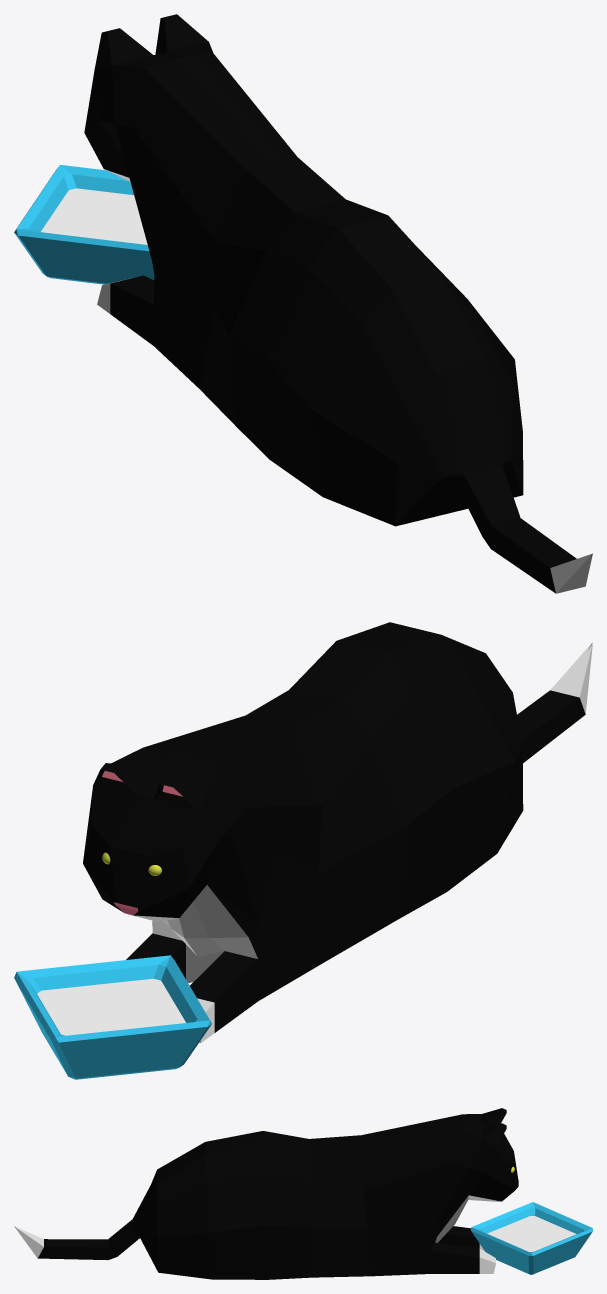
Rendered from catUp.glb.
The picture shows the model from 3 angles, top to bottom: view 1: azimuth 30°, elevation 25°; view 2: azimuth 150°, elevation 25°; view 3: azimuth 270°, elevation 25°; orthographic projection. The views are drawn at different scales.
Visible parts, largest first — view 1: cat, bowl; view 2: cat, bowl; view 3: cat, bowl.
Part boxes in pixels (x1,y1,x2,y2): cat: [84, 14, 592, 593]; bowl: [14, 165, 154, 284]; cat: [83, 622, 592, 1042]; bowl: [14, 955, 211, 1079]; cat: [14, 1108, 518, 1279]; bowl: [471, 1202, 592, 1274].
Size of the model in its own units: 1.09 by 1.34 by 4.93.
